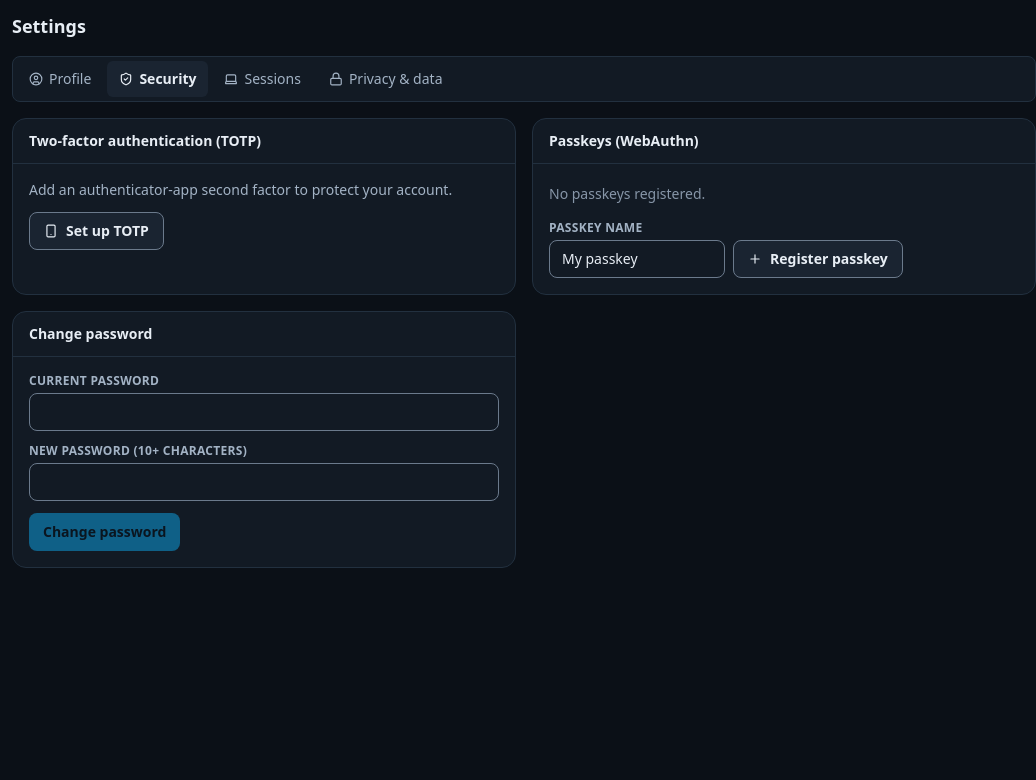
Scenario: SettingsPage › registers a passkey and shows the success message
This screenshot has width=1036, height=780.
Expected: the text "No passkeys registered." is shown, [549,184,705,203]
Click the button "Register passkey": [818, 259] box [733,240,903,278]
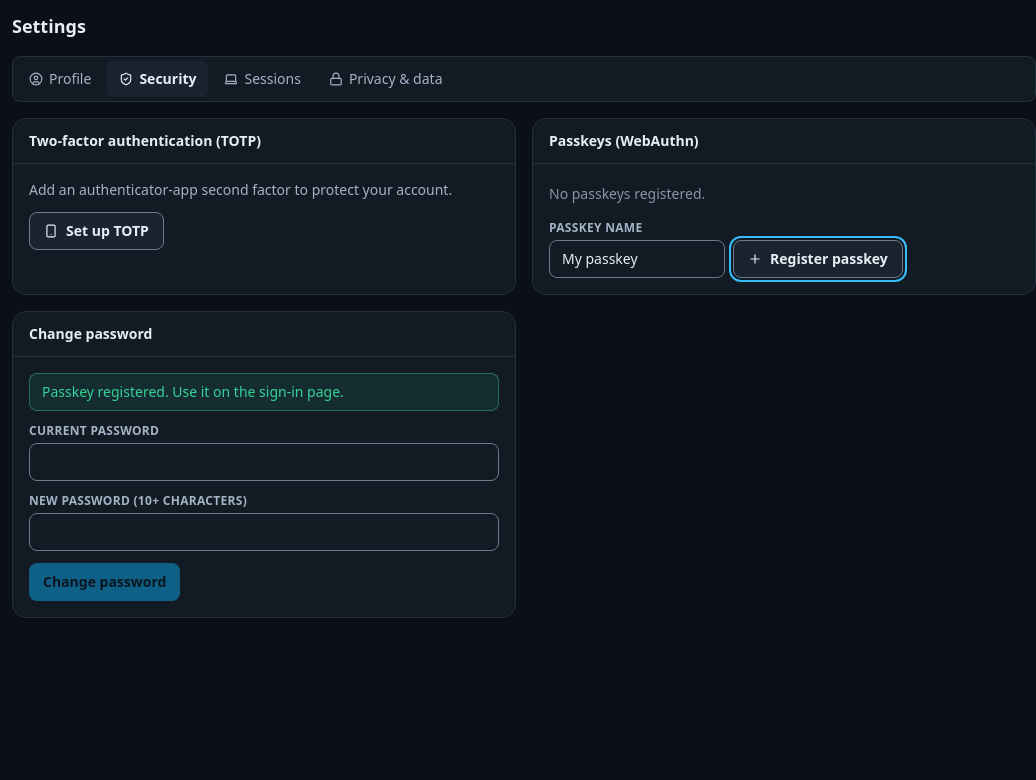
Now the text "Passkey registered. Use it on the sign-in page." is shown, box [29,373,499,411]
